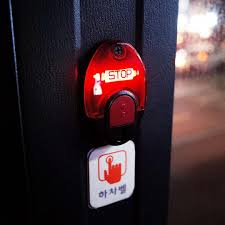bell: (82, 37, 151, 145)
